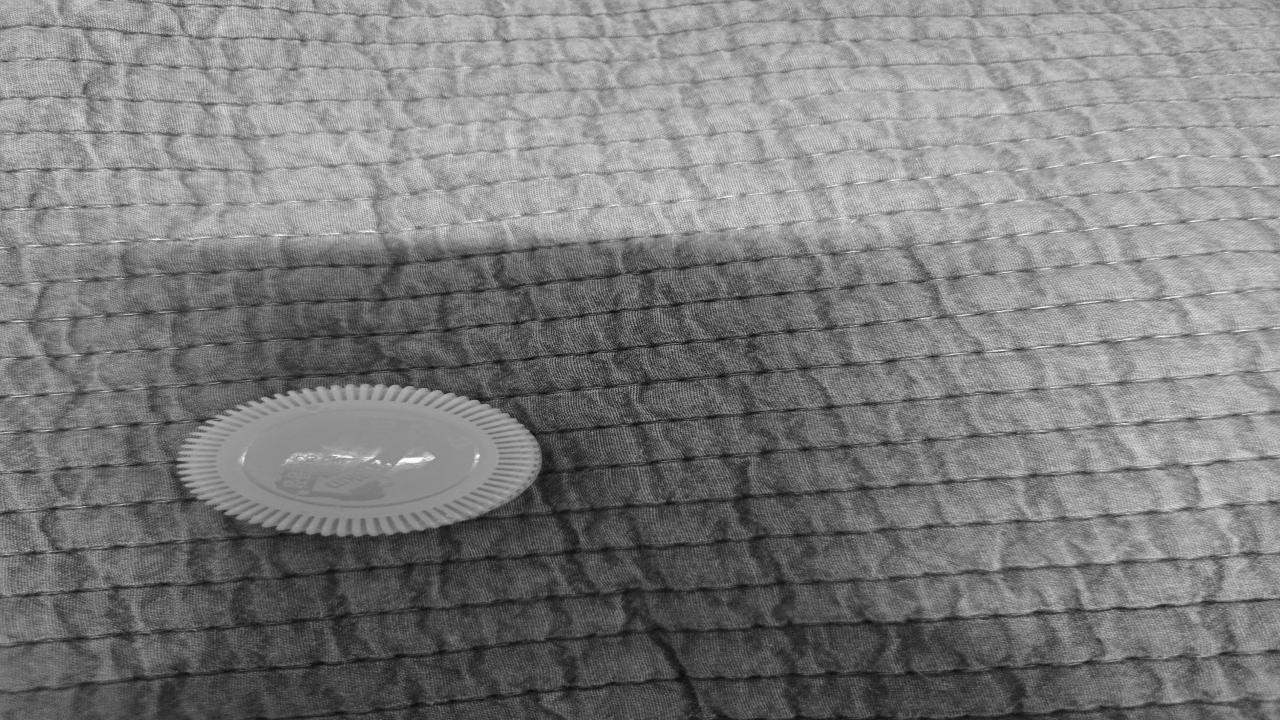bottle_cap: (165, 384, 553, 540)
